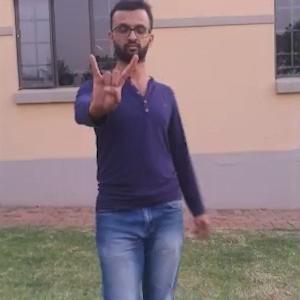takeoff-hand: (78, 44, 144, 118)
